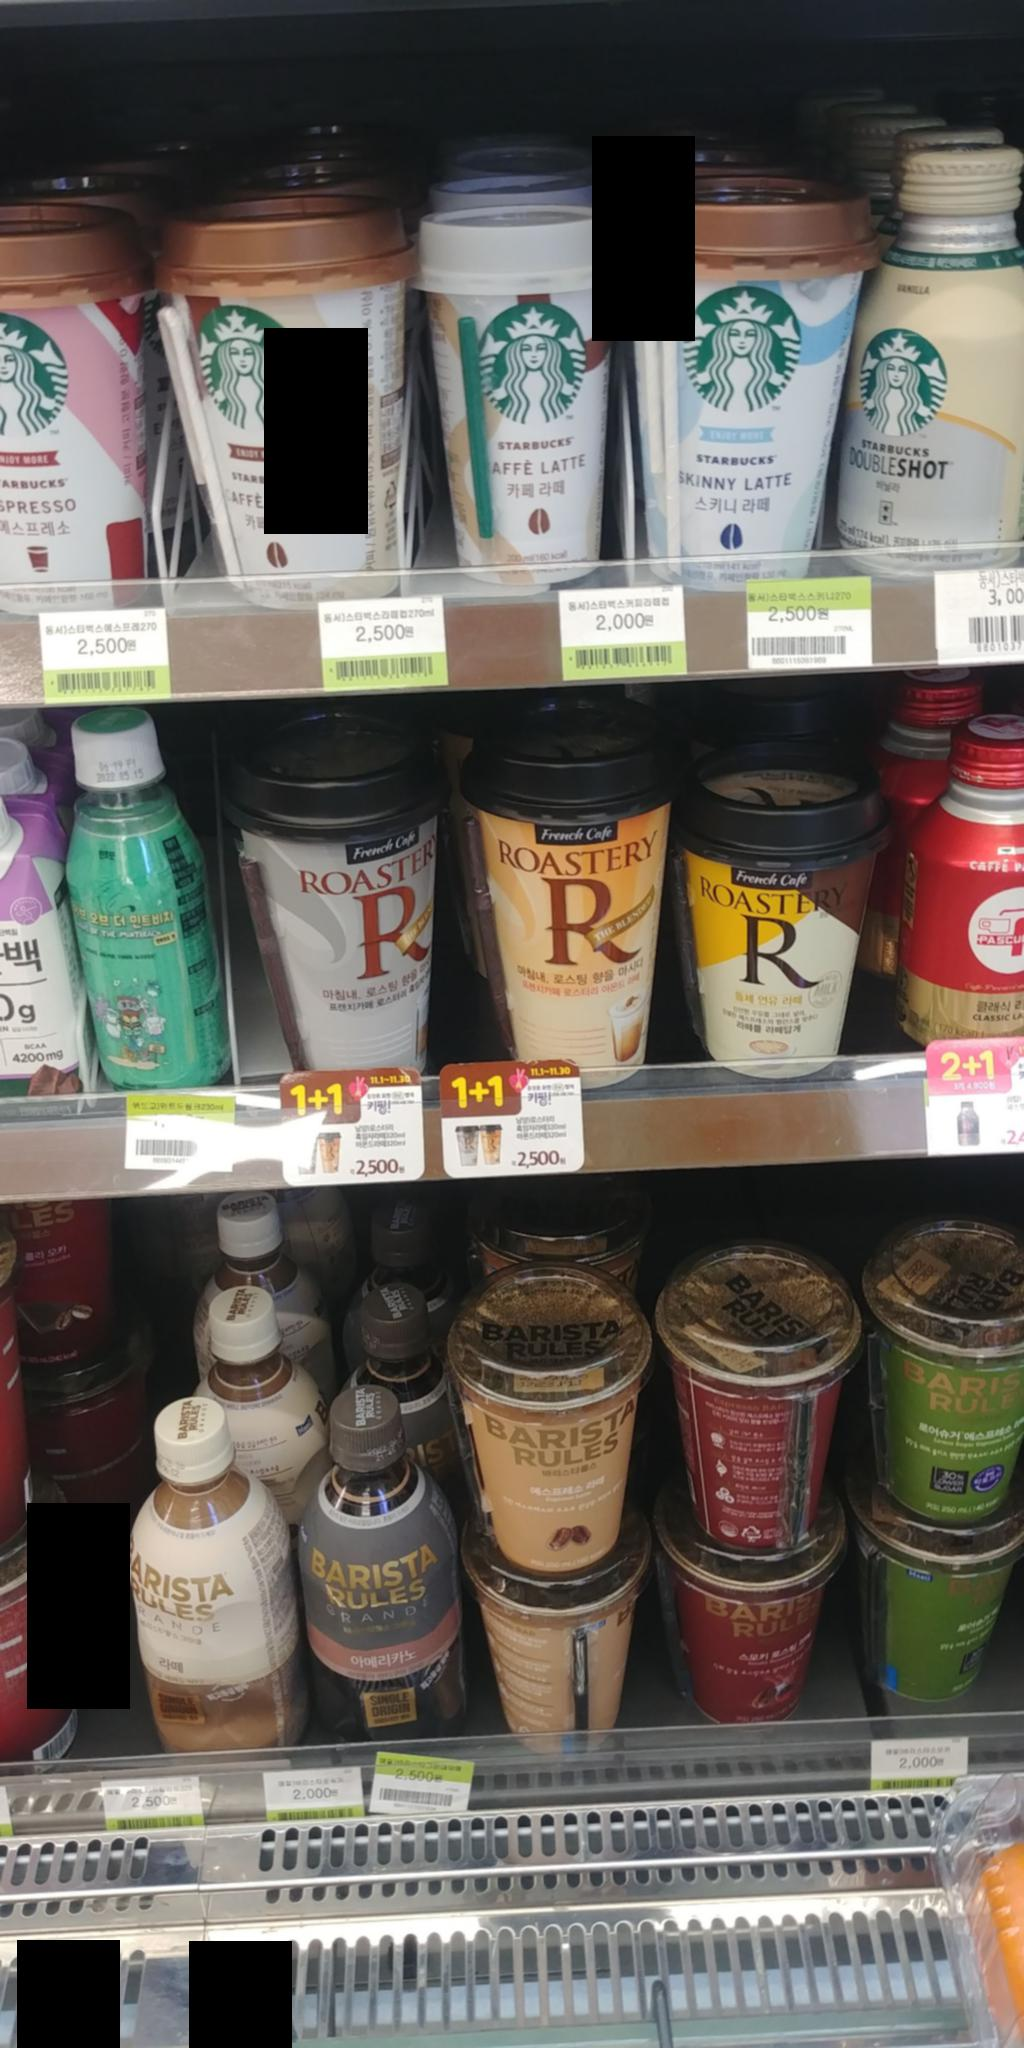baristarules_espressolatte: (451, 1289, 678, 1579)
starbucks_cafelatte: (149, 192, 435, 600)
